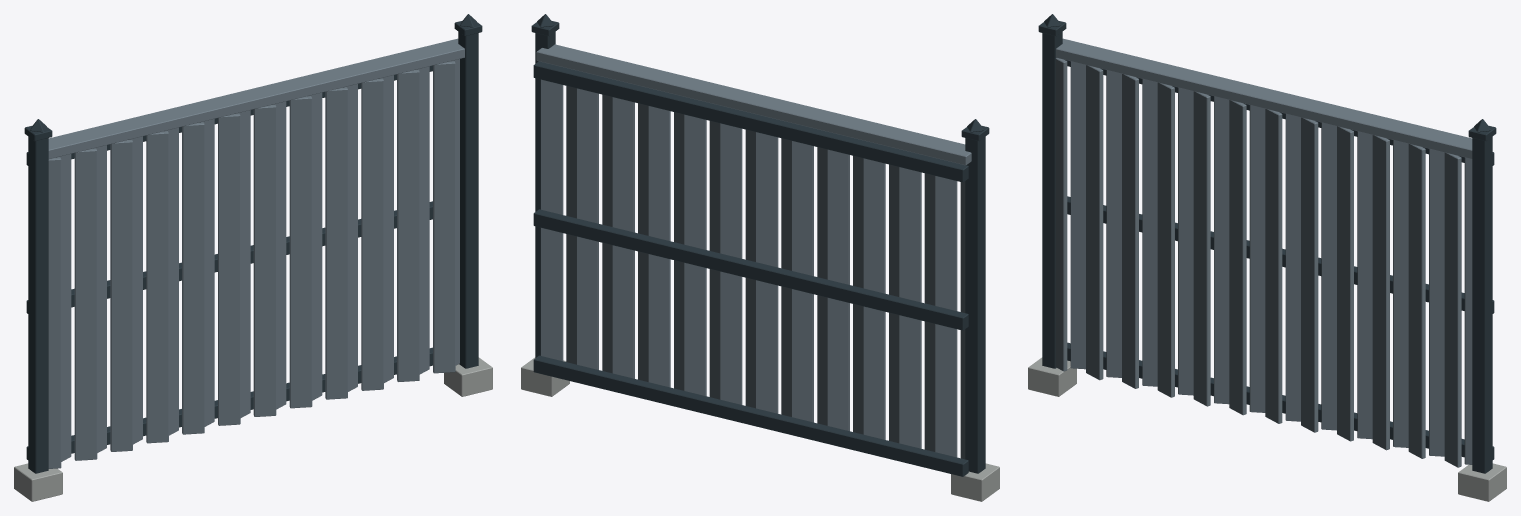
The model's file is b19_corrugated_metal_boundary.glb.
3 views of the same model, side by side, from view 1: azimuth 30°, elevation 25°; view 2: azimuth 150°, elevation 25°; view 3: azimuth 330°, elevation 25° (orthographic).
Visible parts, largest first — view 1: b19_corrugated_metal_boundary; view 2: b19_corrugated_metal_boundary; view 3: b19_corrugated_metal_boundary.
Boxes of the visible parts, x1,y1,x2,y2 form: b19_corrugated_metal_boundary: (14,14,492,501); b19_corrugated_metal_boundary: (521,14,999,501); b19_corrugated_metal_boundary: (1028,14,1506,501).
Bounding box in the file's own units: 2.58 × 1.99 × 0.205.
